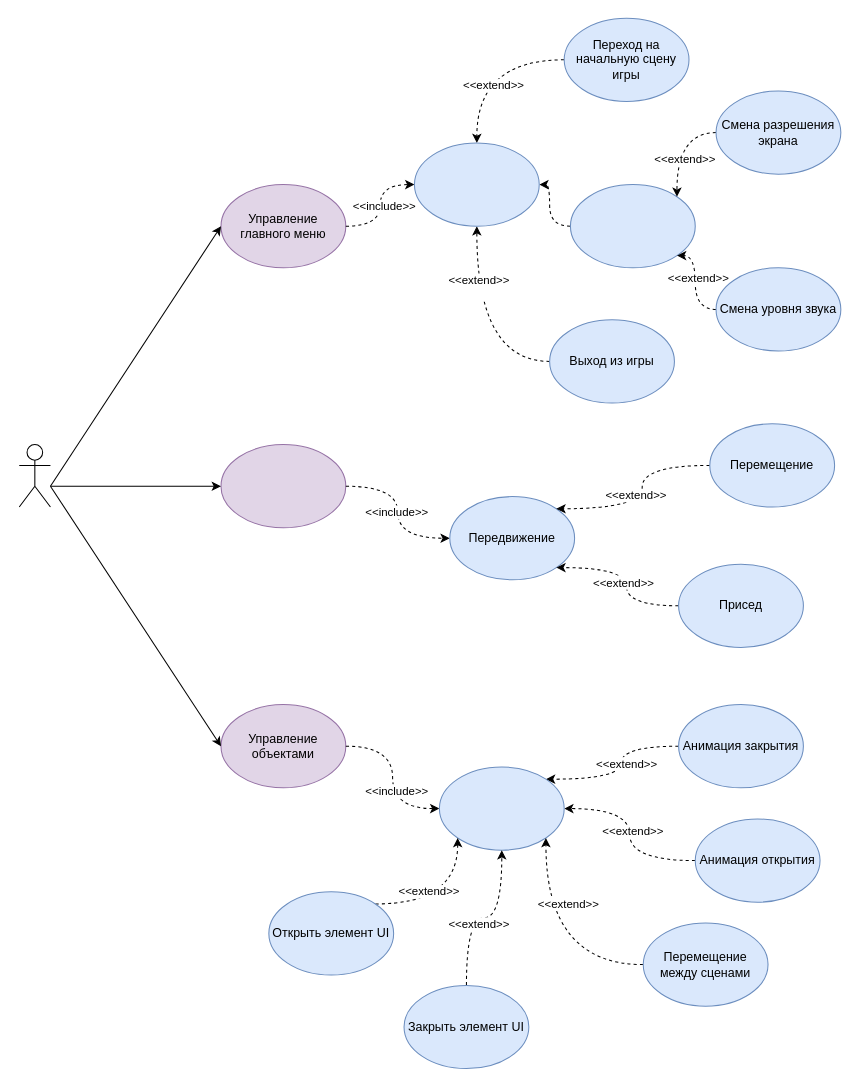
The diagram is 859 pixels wide and 1087 high, and some of its shapes have lost their labels. Each missing label, with the centre of its shape:
Взаимодействие: the point at 501,808
Игрок: the point at 34,475
Переход на сцену меню: the point at 476,184
Переход на сцену настроек: the point at 632,226
Управление персонажем: the point at 283,486
